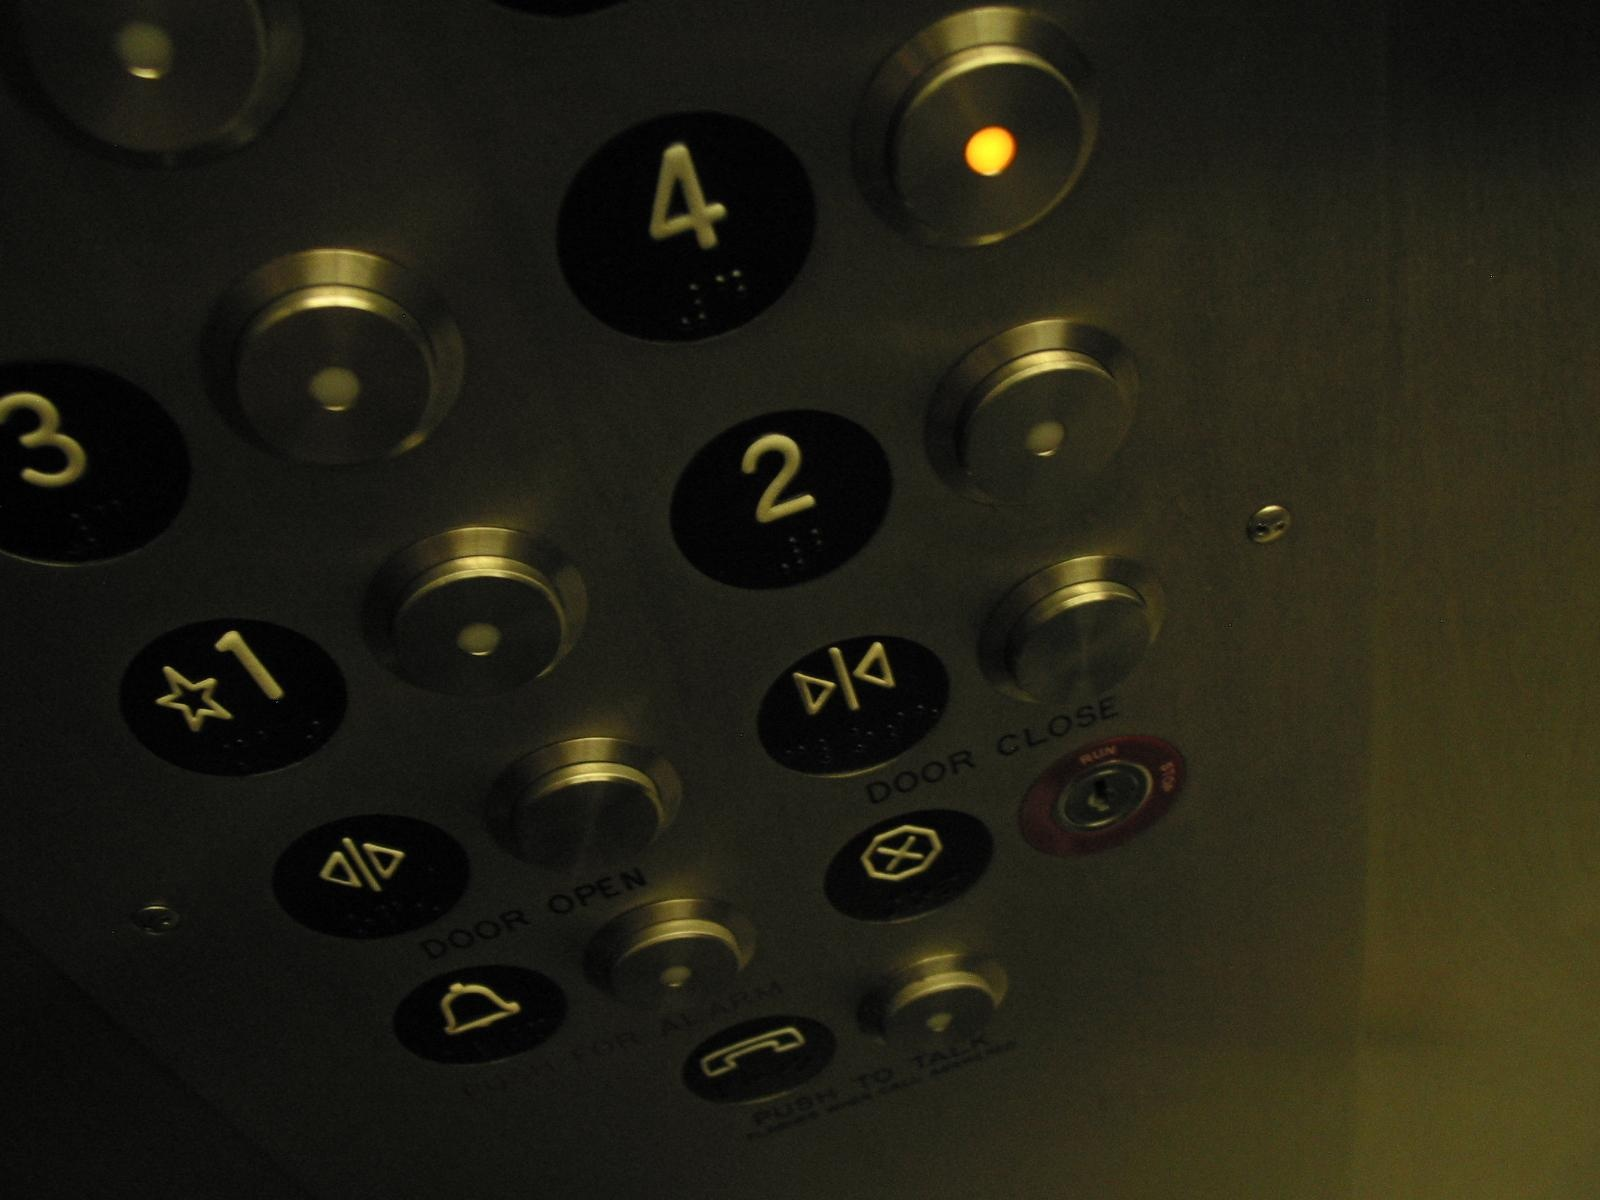2: (669, 408, 898, 587)
3: (1, 353, 193, 570)
4: (546, 106, 821, 345)
alarm: (391, 963, 569, 1065)
call: (682, 1017, 842, 1105)
close: (758, 630, 954, 780)
empty: (855, 3, 1107, 252), (195, 245, 469, 470), (1, 4, 307, 180), (917, 319, 1141, 517), (363, 524, 595, 705), (978, 548, 1170, 708), (483, 729, 684, 880), (576, 892, 758, 1018), (859, 948, 1010, 1056)
keyhole: (1015, 735, 1193, 861)
open: (270, 813, 474, 943)
s1: (115, 615, 354, 776)
stop: (824, 805, 1000, 920)
